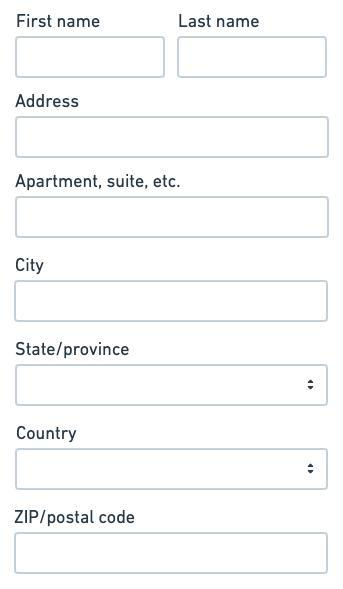dropdown: (16, 366, 328, 405), (18, 450, 330, 489)
input: (18, 198, 328, 239), (16, 283, 327, 323), (16, 118, 330, 157), (15, 536, 328, 573), (179, 38, 328, 78), (18, 39, 165, 79)
label: (13, 173, 182, 192), (15, 508, 137, 531), (16, 342, 134, 363), (16, 8, 102, 32), (176, 7, 261, 29), (13, 89, 80, 112), (17, 425, 80, 446), (13, 255, 47, 277)
